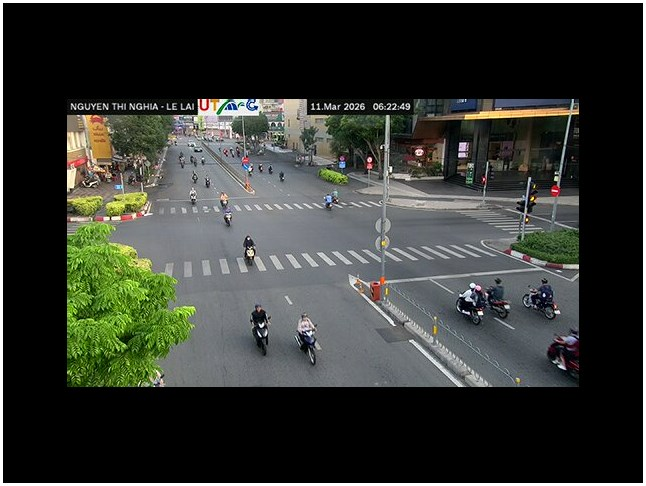motorbike: (455, 285, 510, 325), (546, 331, 580, 376), (522, 283, 559, 321), (296, 331, 320, 366), (251, 320, 270, 355)
